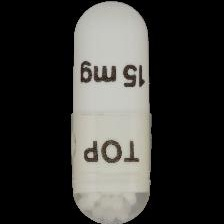50458-647: (0, 0, 224, 224)
